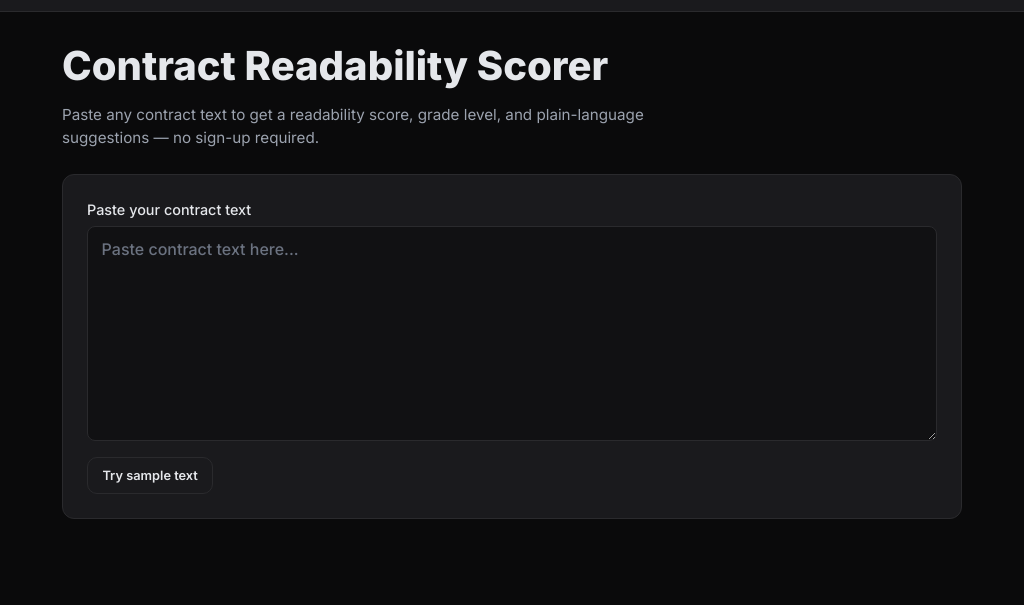
Test: ReadabilityScorerPage › detects legal jargon in sample text
Step 1. Click the button "Try sample text" → x=150, y=475, box [87,456,213,494]
(page scrolled)
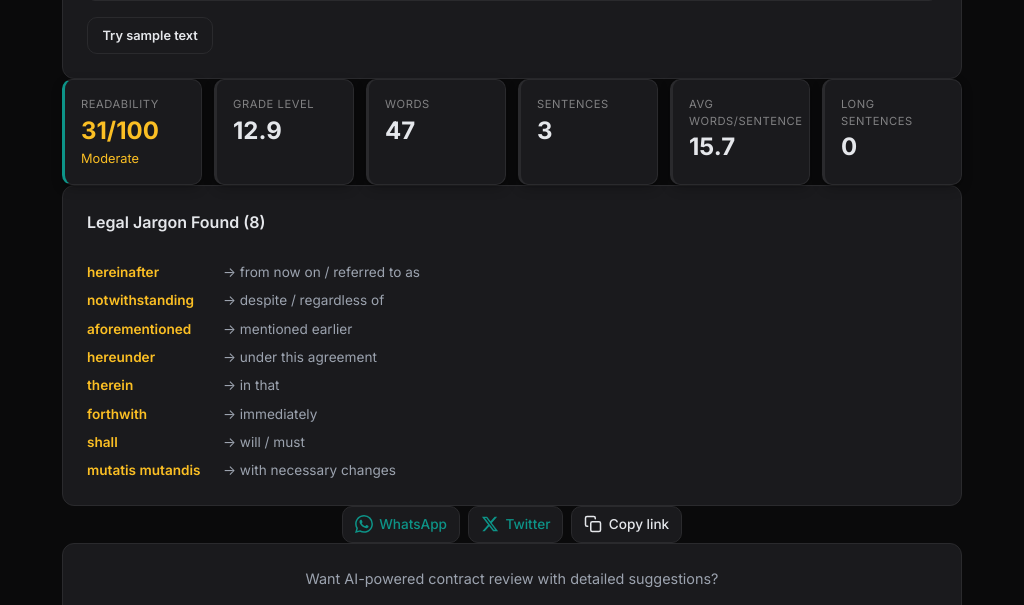
Result: the heading "Legal Jargon Found (8)" is shown at [87,212,265,232]
